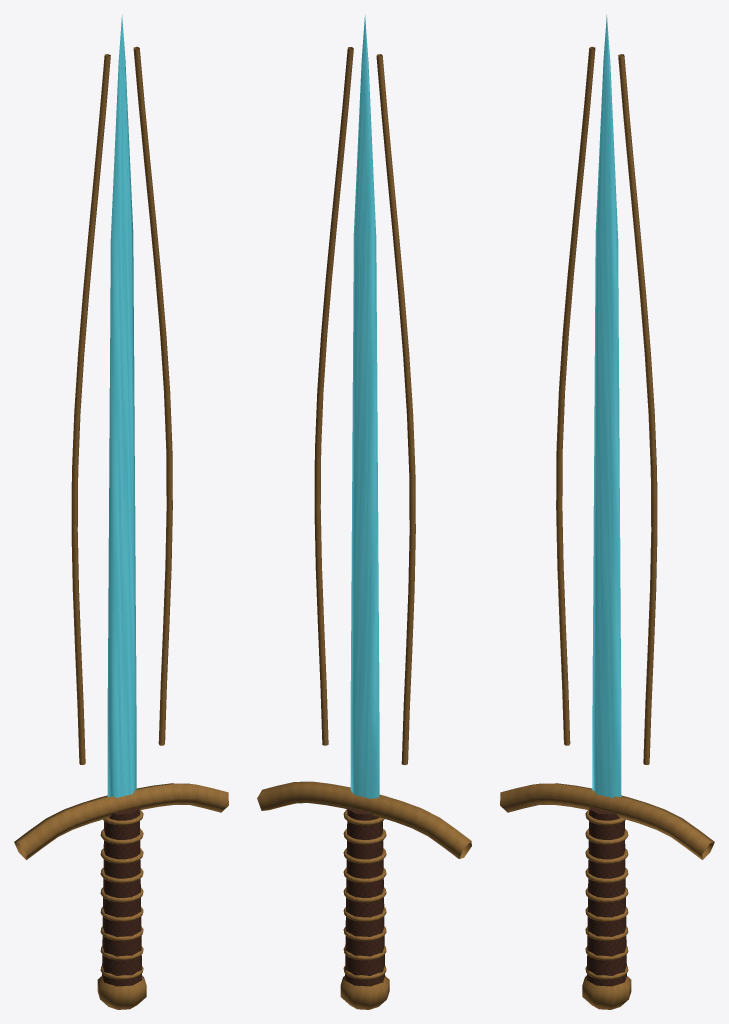
The model's file is light-blade.lod2.glb.
The picture shows the model from 3 angles, left to right: view 1: azimuth 30°, elevation 25°; view 2: azimuth 150°, elevation 25°; view 3: azimuth 330°, elevation 25°; orthographic projection.
Parts seen in each view (by area): view 1: blade, leather.0, brass.12, brass.13, brass.11, brass.10; view 2: blade, leather.0, brass.12, brass.13, brass.11, brass.10; view 3: blade, leather.0, brass.13, brass.12, brass.11, brass.10.
Boxes of the visible parts, box(x1,y1,x2,y2) form: blade: box(107, 15, 136, 797); leather.0: box(102, 807, 141, 986); brass.12: box(71, 54, 110, 764); brass.13: box(133, 46, 172, 745); brass.11: box(14, 783, 228, 859); brass.10: box(97, 975, 146, 1009); blade: box(350, 15, 379, 798); leather.0: box(345, 807, 384, 986); brass.12: box(376, 54, 415, 765); brass.13: box(314, 47, 353, 745); brass.11: box(257, 781, 471, 858); brass.10: box(340, 976, 389, 1009); blade: box(592, 15, 621, 797); leather.0: box(587, 807, 626, 986); brass.13: box(618, 54, 657, 764); brass.12: box(556, 46, 595, 745); brass.11: box(500, 783, 714, 859); brass.10: box(582, 975, 631, 1009).
Size of the model in its own units: 0.2902 by 1.31 by 0.0609.
Materials: 3 (3 with a texture image).
